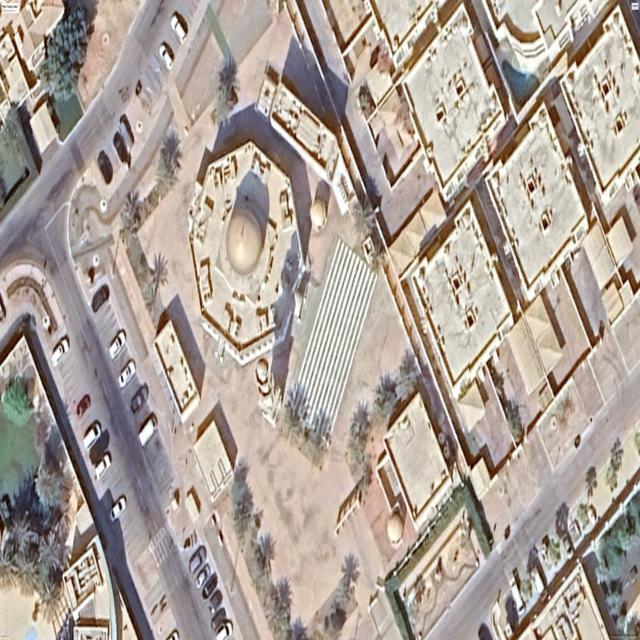mosque: (189, 141, 302, 365)
